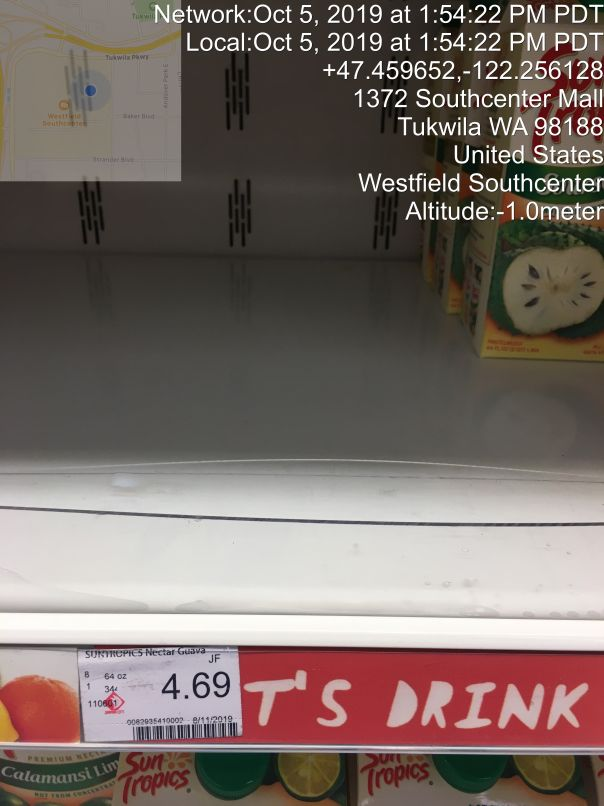Label: (71, 638, 261, 754)
Location: (350, 82, 604, 198)
Time: (145, 1, 604, 58)
Void: (9, 16, 465, 451)
